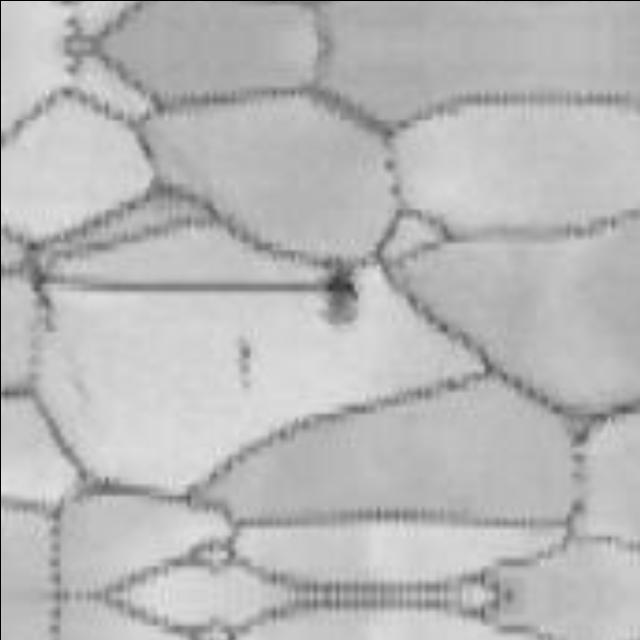good_void: (314, 273, 363, 331), (235, 337, 256, 393)
